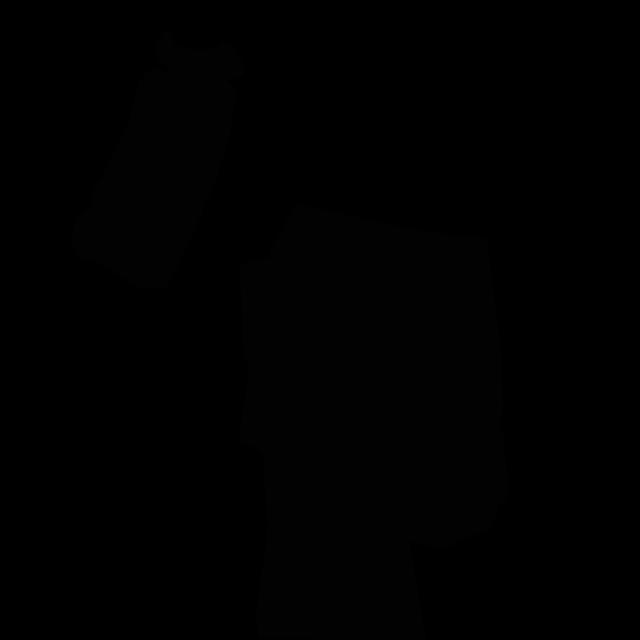cardboard: (238, 203, 509, 640), (72, 31, 244, 288)
